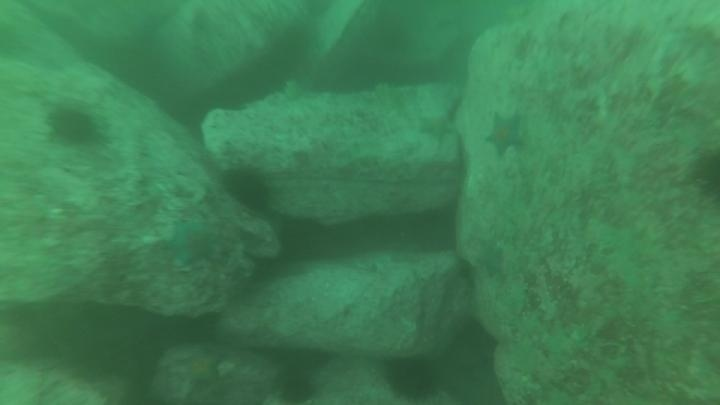echinus: (381, 352, 443, 403), (220, 163, 274, 214), (45, 103, 103, 149), (689, 145, 720, 208), (272, 364, 320, 404)
holothurian: (522, 259, 562, 325)
starfish: (163, 216, 221, 270), (480, 109, 529, 160), (178, 348, 223, 387), (415, 107, 459, 145)
